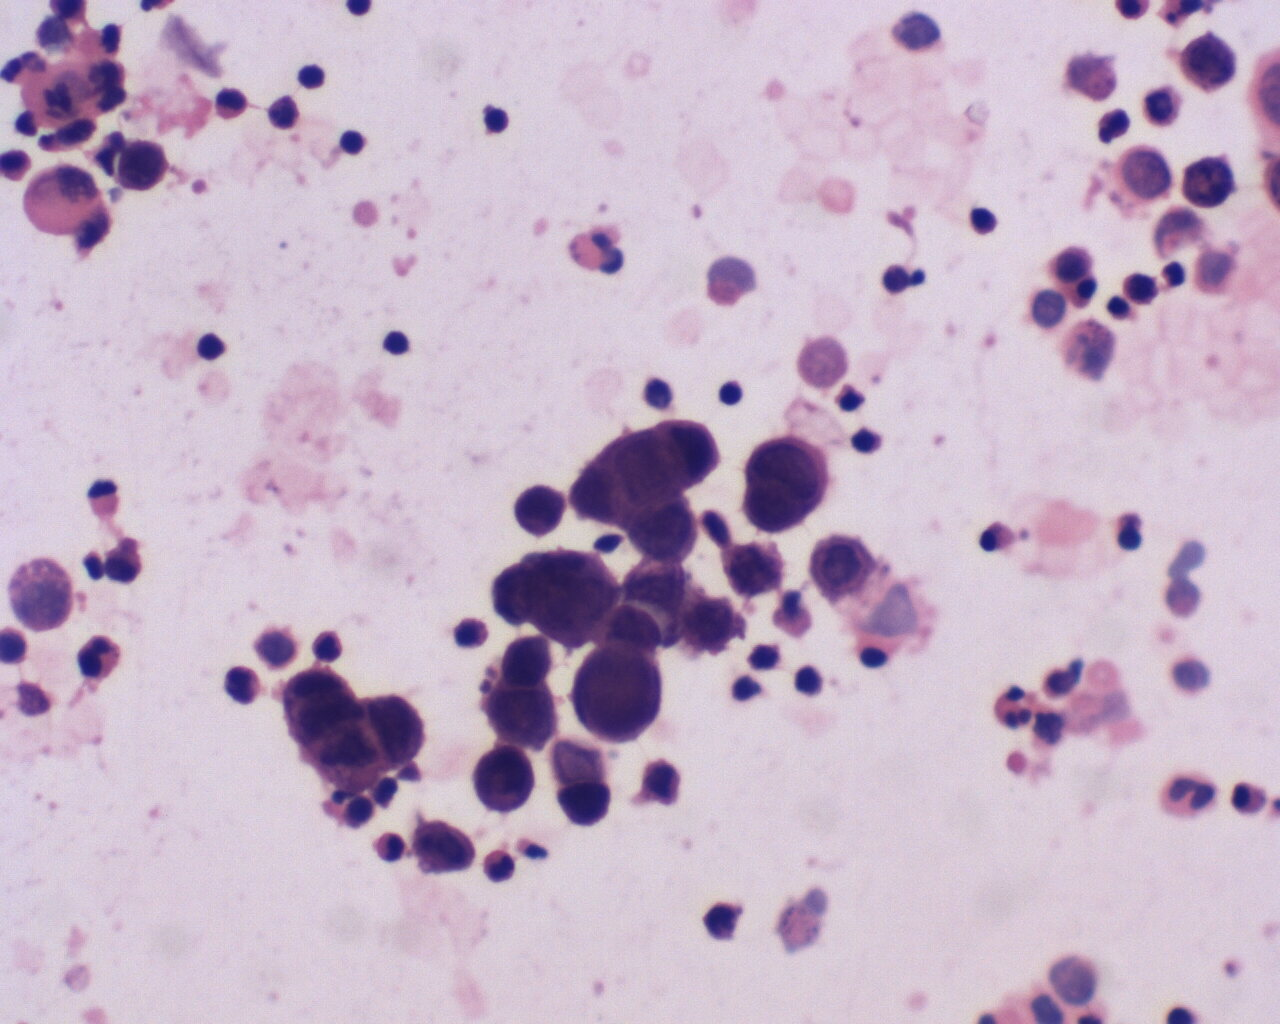ab: (495, 550, 621, 647), (738, 435, 840, 536), (567, 648, 671, 744), (623, 495, 700, 561), (806, 533, 879, 600), (486, 683, 559, 749), (370, 693, 427, 771), (721, 538, 789, 603), (471, 748, 533, 816), (115, 136, 171, 197), (1182, 152, 1242, 208)
lymph: (962, 202, 1006, 243), (476, 102, 518, 136), (338, 121, 370, 158), (290, 61, 328, 92), (714, 376, 746, 411), (196, 330, 233, 360), (382, 326, 412, 360)
